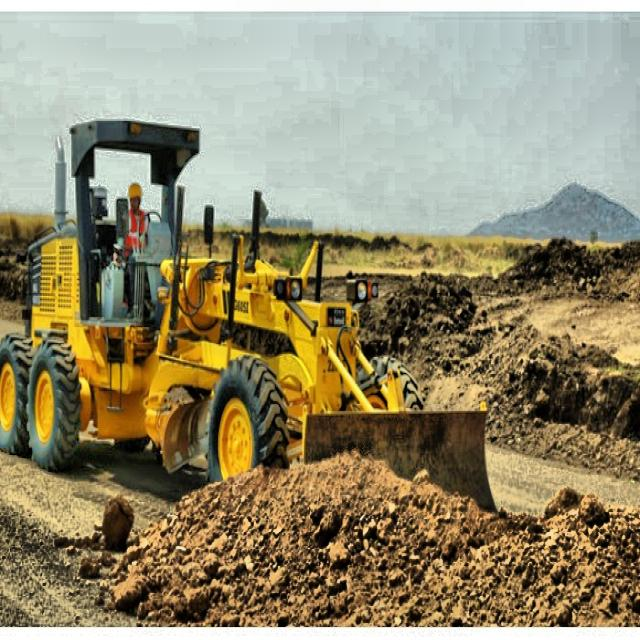safety_helmet: (127, 181, 141, 193)
safety_jacket: (128, 209, 150, 244)
